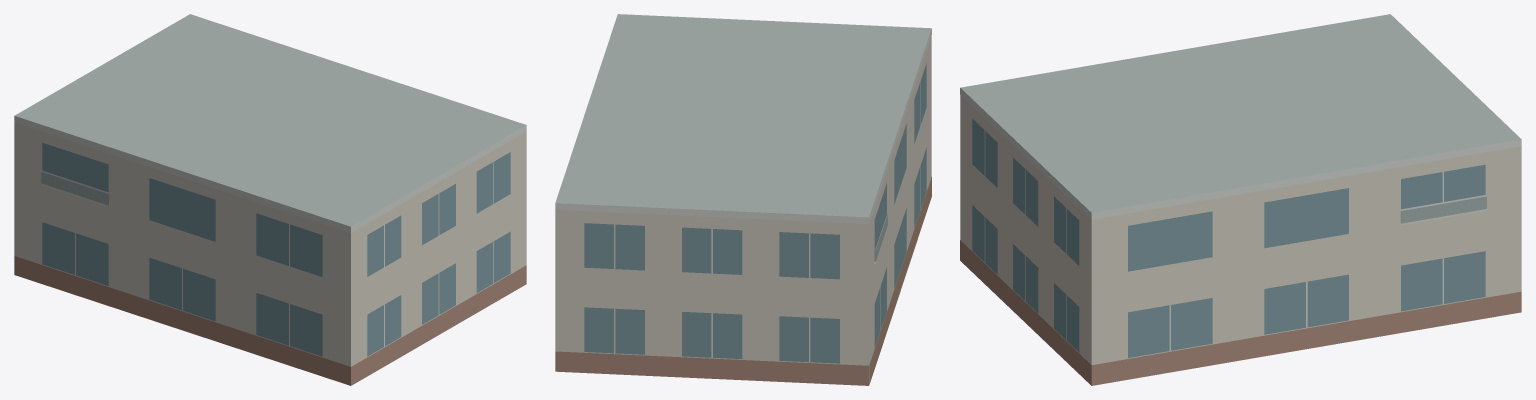
File: survey-upis-32732451.glb
3 renders of one model, left to right at view 1: azimuth 30°, elevation 25°; view 2: azimuth 150°, elevation 25°; view 3: azimuth 270°, elevation 25°, orthographic. The views are drawn at different scales.
Parts seen in each view (by area): view 1: survey-upis-32732451.tmp; view 2: survey-upis-32732451.tmp; view 3: survey-upis-32732451.tmp.
Part boxes in pixels (x1,y1,x2,y2): survey-upis-32732451.tmp: [14, 14, 526, 385]; survey-upis-32732451.tmp: [555, 14, 931, 385]; survey-upis-32732451.tmp: [960, 14, 1521, 385].
Size of the model in its own units: 15.05 by 6.1 by 17.95.
